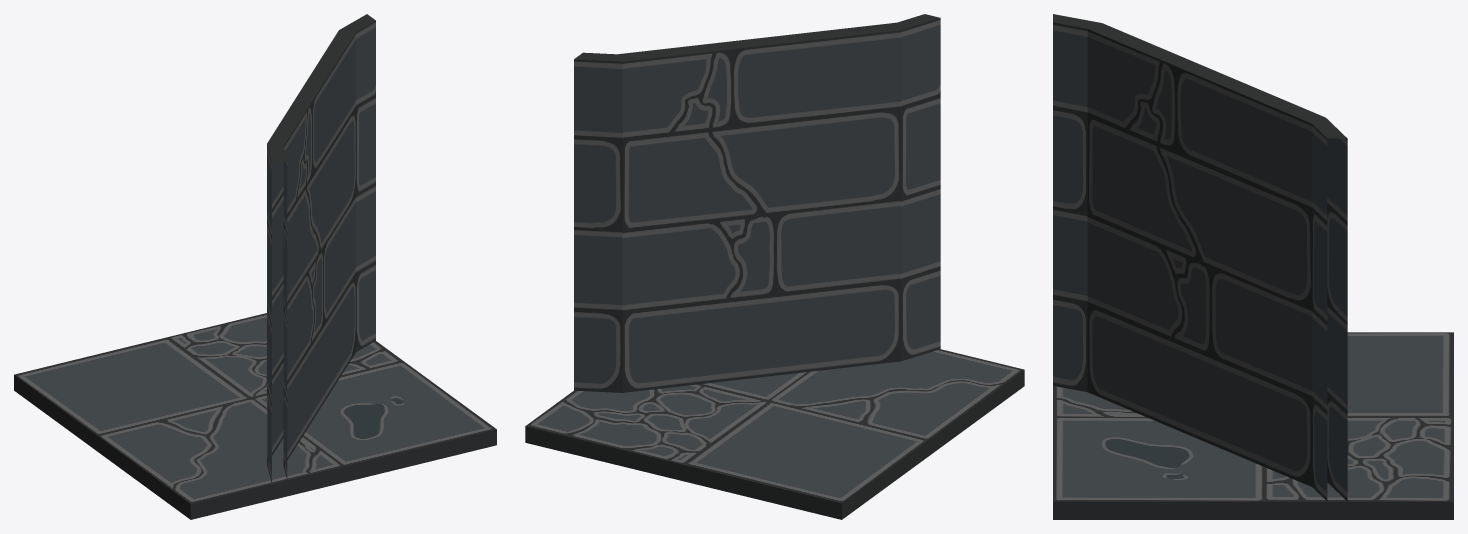
Rendered from Wall-MCURVE-NW_v1.2.fbx.
The picture shows the model from 3 angles, left to right: view 1: azimuth 30°, elevation 25°; view 2: azimuth 150°, elevation 25°; view 3: azimuth 270°, elevation 25°; orthographic projection. The views are drawn at different scales.
Visible parts, largest first — view 1: Wall-MCURV-NW; view 2: Wall-MCURV-NW; view 3: Wall-MCURV-NW.
Boxes of the visible parts, x1,y1,x2,y2 form: Wall-MCURV-NW: (14,14,496,519); Wall-MCURV-NW: (525,14,1024,519); Wall-MCURV-NW: (1053,14,1453,519).
Size of the model in its own units: 100 by 100 by 105.
